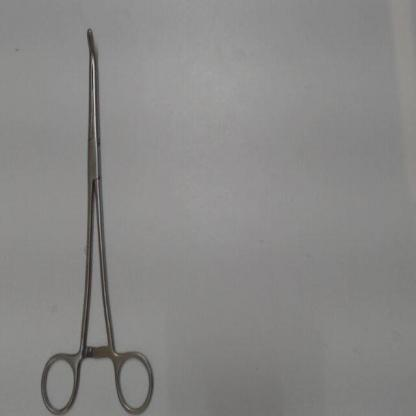Lahey Forceps: (38, 19, 158, 414)
